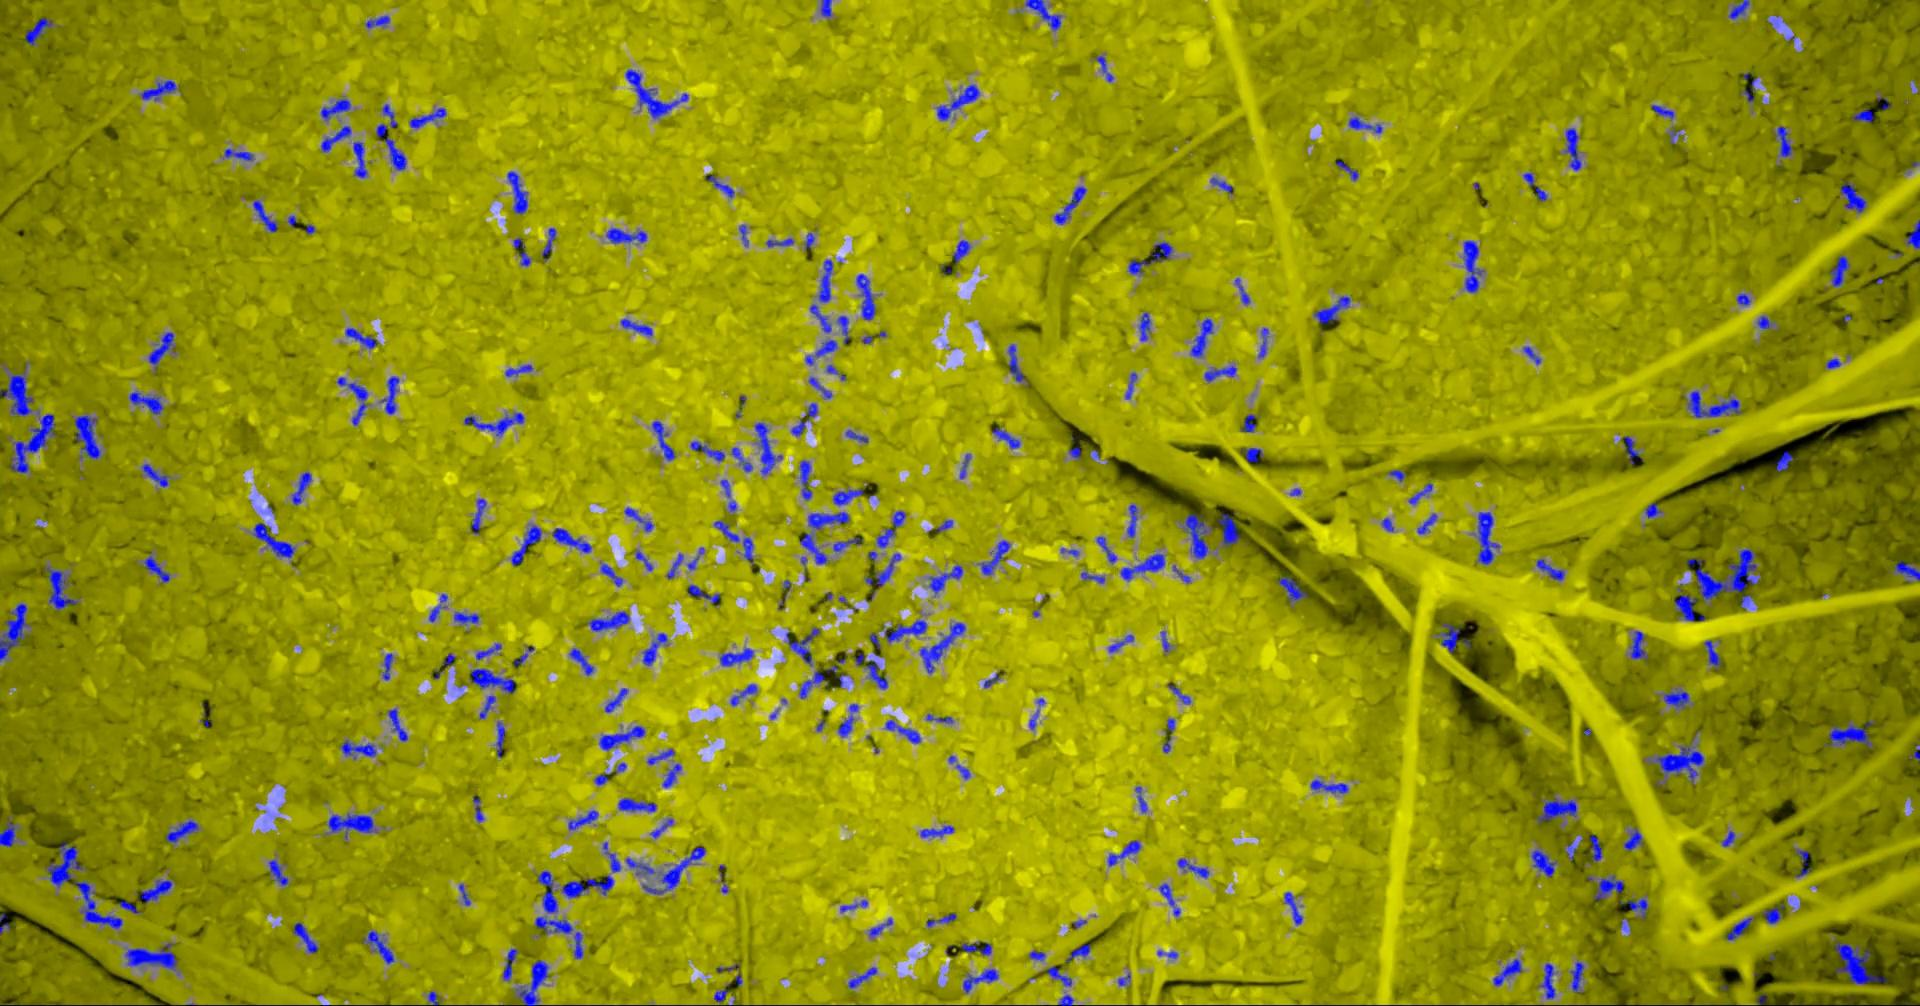ant: (625, 69, 688, 118), (643, 846, 705, 894), (9, 409, 55, 473), (919, 622, 965, 672), (375, 103, 406, 170), (1834, 941, 1884, 983), (1650, 746, 1703, 785), (535, 916, 582, 958), (712, 520, 753, 564), (0, 363, 33, 415), (0, 603, 29, 661), (936, 84, 979, 119), (251, 522, 295, 558), (516, 959, 549, 1005), (337, 377, 367, 426), (1128, 241, 1172, 274), (754, 422, 782, 474), (44, 567, 77, 610), (1688, 390, 1741, 417), (463, 412, 524, 434), (124, 942, 177, 969), (1823, 720, 1873, 748), (785, 627, 819, 666), (1182, 513, 1211, 558), (1053, 185, 1086, 224), (1672, 583, 1705, 621), (1120, 553, 1164, 580), (510, 525, 541, 565), (328, 813, 373, 840), (560, 875, 613, 898), (865, 553, 900, 586), (74, 415, 100, 459), (1477, 511, 1498, 564), (470, 668, 516, 692), (598, 725, 644, 749), (1025, 0, 1060, 30), (876, 511, 905, 547), (1463, 240, 1483, 292), (362, 930, 392, 964), (980, 540, 1010, 575), (1537, 798, 1577, 823), (1313, 295, 1350, 323), (1436, 622, 1470, 652), (883, 619, 926, 641), (552, 527, 590, 553), (855, 273, 875, 319), (930, 565, 963, 593), (505, 171, 527, 213), (149, 332, 174, 367), (963, 968, 998, 993), (1190, 318, 1213, 357), (651, 420, 674, 460), (536, 871, 557, 912), (320, 124, 350, 152), (799, 532, 827, 563), (587, 611, 629, 631), (1107, 840, 1140, 865), (885, 719, 919, 743), (799, 669, 827, 699), (1217, 511, 1239, 546), (1840, 180, 1865, 212), (251, 199, 277, 231), (140, 80, 179, 100), (130, 390, 163, 414), (643, 633, 667, 666), (1492, 958, 1521, 984), (409, 107, 446, 127), (24, 17, 51, 44), (808, 511, 850, 528), (143, 553, 169, 582), (1277, 575, 1307, 601), (292, 922, 317, 951), (837, 702, 858, 737), (1592, 875, 1623, 899), (380, 376, 399, 414), (140, 879, 171, 902), (1564, 127, 1581, 170), (165, 821, 198, 842), (1158, 883, 1180, 916), (623, 507, 653, 531), (863, 659, 888, 688), (703, 174, 734, 197), (690, 441, 724, 461), (340, 739, 375, 760), (344, 326, 376, 348), (1531, 848, 1556, 876), (291, 471, 311, 504), (387, 708, 408, 741), (1535, 558, 1564, 580), (320, 98, 350, 119), (719, 647, 753, 666), (569, 648, 593, 674), (1538, 963, 1556, 998), (847, 967, 876, 988), (1007, 343, 1023, 381), (606, 227, 646, 243), (688, 584, 719, 605), (141, 464, 168, 486), (818, 259, 832, 302), (809, 304, 830, 332), (990, 427, 1018, 448), (1619, 898, 1647, 920), (1349, 116, 1382, 133), (1284, 890, 1302, 923), (1829, 255, 1848, 286), (604, 687, 627, 713), (1177, 857, 1208, 876), (1724, 917, 1751, 939), (620, 318, 651, 335), (832, 488, 863, 506), (568, 810, 597, 829), (730, 683, 756, 705), (470, 498, 485, 533), (1096, 536, 1116, 563), (602, 841, 620, 871), (428, 593, 447, 621), (1310, 779, 1349, 793), (617, 796, 655, 810), (1204, 365, 1236, 381), (599, 563, 622, 586), (1408, 483, 1432, 504), (799, 460, 811, 500), (1893, 560, 1919, 580), (268, 859, 287, 885), (1630, 630, 1647, 661), (1703, 639, 1719, 669), (502, 948, 517, 981), (352, 141, 366, 177), (808, 376, 830, 398), (731, 447, 752, 471), (625, 857, 654, 874), (1095, 55, 1112, 81), (1775, 126, 1790, 156), (1335, 160, 1357, 180), (1167, 683, 1190, 704), (649, 818, 672, 838), (926, 912, 956, 927), (541, 227, 555, 260), (513, 238, 530, 265), (1663, 688, 1688, 708), (662, 763, 681, 788), (1065, 942, 1090, 962), (665, 553, 683, 578), (1623, 434, 1638, 464), (475, 643, 502, 659), (1763, 903, 1784, 923), (1623, 827, 1642, 850), (869, 917, 891, 936), (1738, 77, 1756, 102), (1109, 634, 1133, 652), (1046, 967, 1070, 984), (832, 537, 862, 551), (646, 748, 674, 763), (960, 941, 990, 955), (1570, 962, 1583, 992), (836, 315, 850, 344), (952, 239, 970, 262), (1234, 277, 1250, 304), (0, 819, 15, 846), (1796, 848, 1810, 876), (1417, 513, 1436, 533), (1775, 450, 1793, 471), (479, 695, 495, 718), (919, 826, 952, 837), (1589, 835, 1603, 861), (1906, 218, 1919, 248), (1728, 0, 1749, 18), (815, 339, 836, 357), (1210, 177, 1232, 193), (687, 547, 703, 569), (1138, 312, 1150, 340), (1257, 326, 1269, 357), (1523, 345, 1540, 365), (1126, 504, 1137, 537), (1650, 104, 1672, 118), (223, 149, 251, 160), (118, 899, 141, 913), (839, 899, 867, 911), (497, 721, 505, 757), (635, 551, 651, 570), (712, 983, 729, 1002), (1241, 447, 1261, 462), (453, 611, 477, 624), (505, 365, 532, 376), (1851, 108, 1873, 122), (1125, 372, 1137, 398), (844, 429, 867, 442), (382, 652, 392, 680), (364, 15, 389, 27), (959, 453, 970, 478), (1079, 572, 1103, 583), (1239, 414, 1256, 431), (1644, 502, 1661, 518), (1135, 786, 1145, 812), (472, 795, 483, 821), (791, 419, 806, 436), (766, 238, 792, 246), (926, 713, 952, 721), (1721, 829, 1735, 846), (458, 883, 469, 904), (805, 401, 817, 420), (1388, 469, 1404, 481), (739, 224, 748, 246), (804, 232, 814, 251), (0, 913, 9, 934), (1757, 315, 1771, 328), (1380, 517, 1393, 531), (427, 991, 439, 1005), (820, 0, 830, 17), (1057, 995, 1073, 1005), (1534, 185, 1545, 199), (1736, 293, 1750, 305), (594, 774, 610, 784), (1029, 950, 1044, 960), (1523, 171, 1533, 185), (1826, 358, 1840, 368), (1069, 445, 1079, 459)
